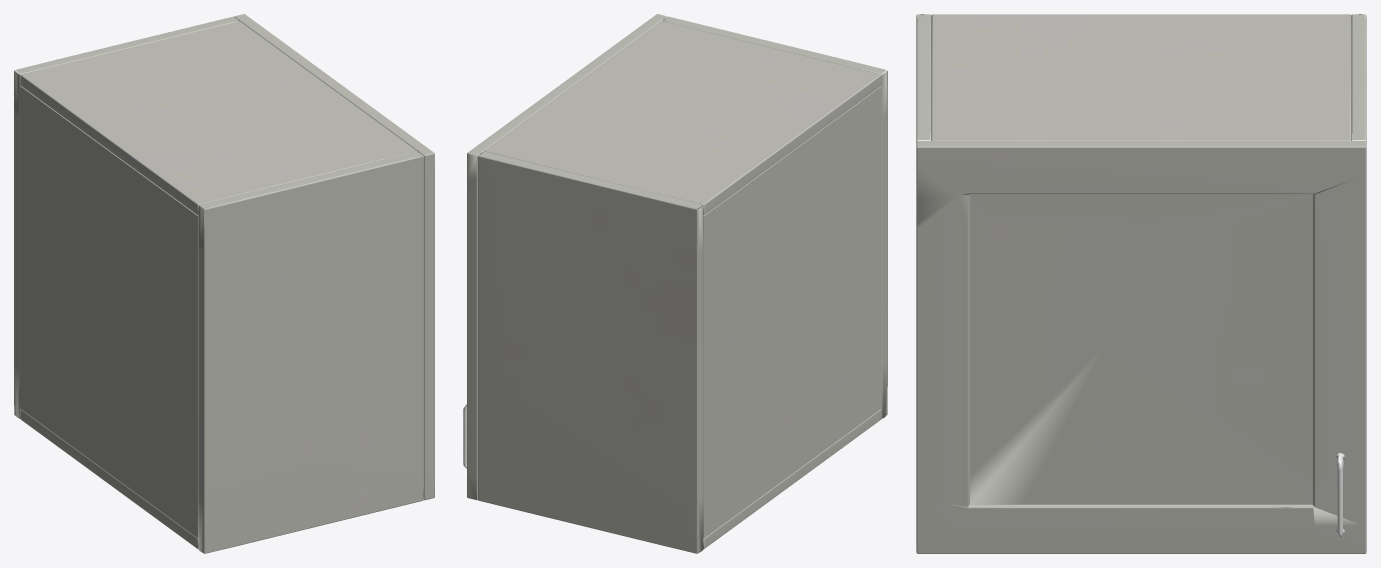
Rendered from fixture_cabinet_top_a02.glb.
3 renders of one model, left to right at view 1: azimuth 30°, elevation 25°; view 2: azimuth 150°, elevation 25°; view 3: azimuth 270°, elevation 25°, orthographic. The views are drawn at different scales.
Visible parts, largest first — view 1: sm_fixture_cabinet_top_a02_01; view 2: sm_fixture_cabinet_top_a02_01; view 3: sm_fixture_cabinet_top_a02_01.
Part boxes in pixels (x1,y1,x2,y2): sm_fixture_cabinet_top_a02_01: [14, 14, 434, 553]; sm_fixture_cabinet_top_a02_01: [463, 14, 887, 553]; sm_fixture_cabinet_top_a02_01: [916, 14, 1366, 553].
Size of the model in its own units: 0.4461 by 0.5996 by 0.6.
Materials: 5 (5 with a texture image).
